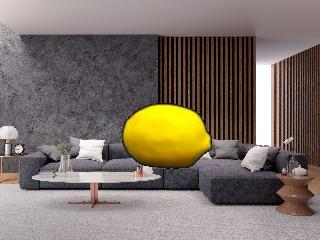lemon: (124, 104, 211, 167)
